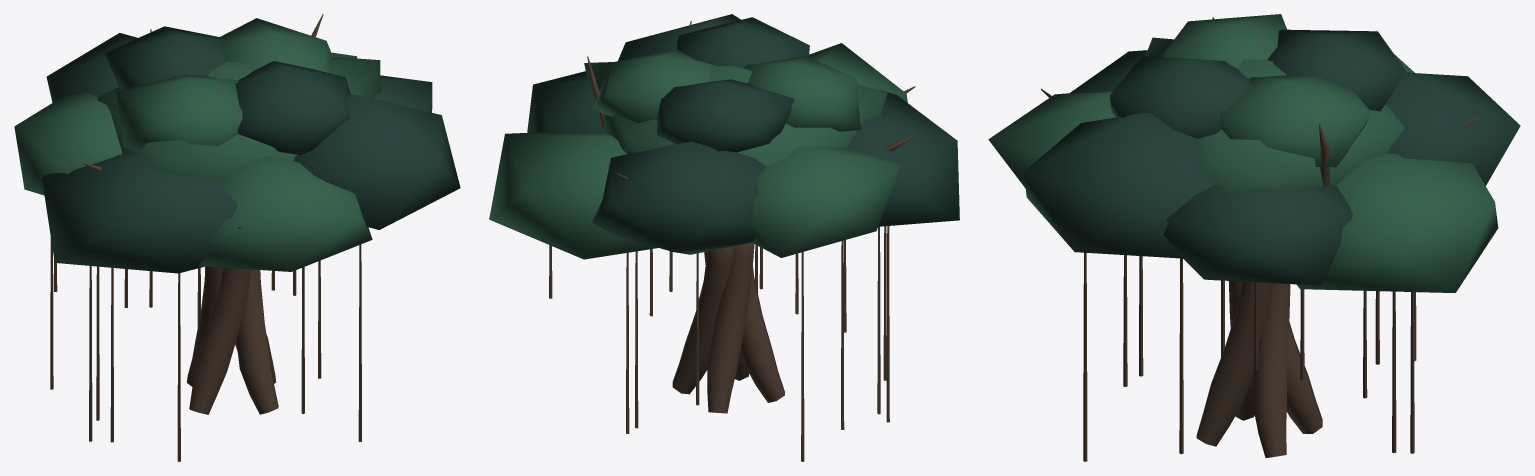
The model's file is beringin.glb.
The picture shows the model from 3 angles, left to right: view 1: azimuth 30°, elevation 25°; view 2: azimuth 150°, elevation 25°; view 3: azimuth 270°, elevation 25°; orthographic projection. The views are drawn at different scales.
Visible parts, largest first — view 1: beringin_mesh; view 2: beringin_mesh; view 3: beringin_mesh.
Boxes of the visible parts, x1,y1,x2,y2 form: beringin_mesh: (14, 14, 460, 461); beringin_mesh: (489, 14, 959, 461); beringin_mesh: (988, 14, 1520, 461).
Size of the model in its own units: 8.48 by 6.97 by 8.6.
